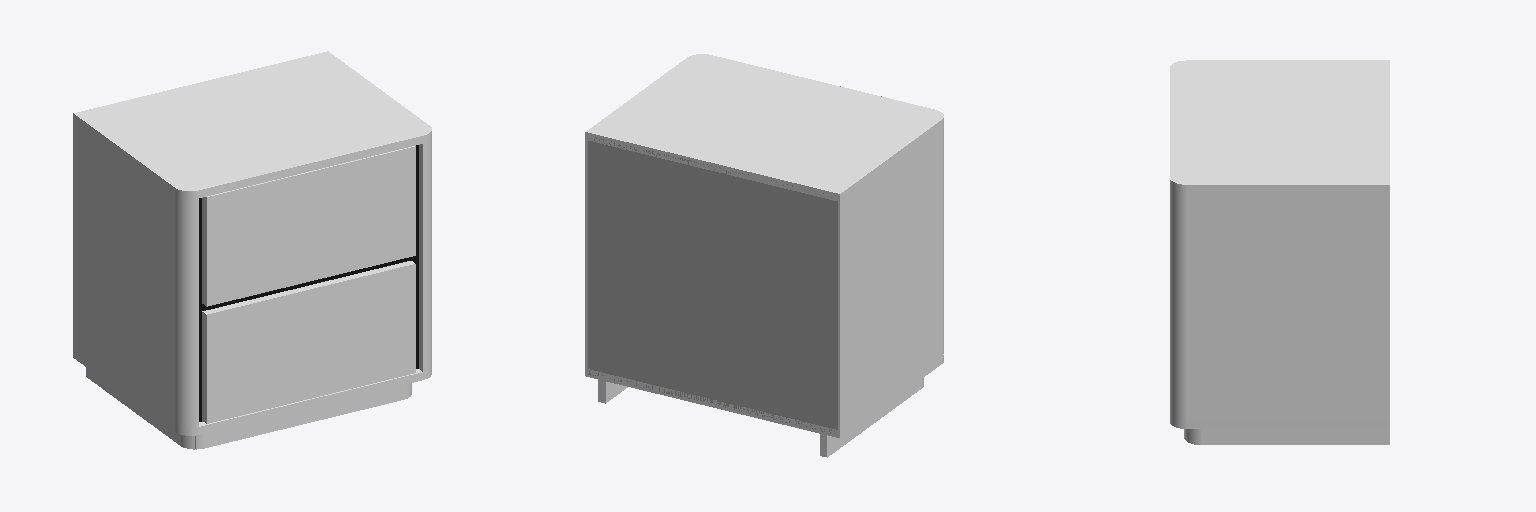
3 renders of one model, left to right at view 1: azimuth 30°, elevation 25°; view 2: azimuth 150°, elevation 25°; view 3: azimuth 270°, elevation 25°, orthographic.
Visible parts, largest first — view 1: 5_Крышка тумбы, 2_Бок тумбы, 27_Фасад, 39_Фасад, 6_Дно тумбы, 11_Цокль, 3_Бок тумбы 20мм, 1_Бок тумбы 20мм, 8_Бок цоколя, 14_Цайга межфасадная, 13_Внутренний бок тумбы, 12_Внутренний бок тумбы; view 2: 15_ДВП, 5_Крышка тумбы, 2_Бок тумбы, 6_Дно тумбы, 8_Бок цоколя, 4_Бок тумбы; view 3: 4_Бок тумбы, 5_Крышка тумбы, 10_Бок цоколя, 6_Дно тумбы.
Part boxes in pixels (x1,y1,x2,y2): 5_Крышка тумбы: (73,51,431,198); 2_Бок тумбы: (73,121,189,427); 27_Фасад: (202,261,415,423); 39_Фасад: (202,146,415,306); 6_Дно тумбы: (73,350,431,435); 11_Цокль: (204,385,402,448); 3_Бок тумбы 20мм: (419,141,429,371); 1_Бок тумбы 20мм: (190,199,198,427); 8_Бок цоколя: (86,367,194,449); 14_Цайга межфасадная: (202,257,410,310); 13_Внутренний бок тумбы: (411,145,418,368); 12_Внутренний бок тумбы: (199,198,201,421); 15_ДВП: (588,137,837,433); 5_Крышка тумбы: (585,54,943,201); 2_Бок тумбы: (838,126,943,429); 6_Дно тумбы: (585,354,943,437); 8_Бок цоколя: (820,378,923,457); 4_Бок тумбы: (585,140,587,368); 4_Бок тумбы: (1172,189,1389,420); 5_Крышка тумбы: (1170,60,1389,192); 10_Бок цоколя: (1187,429,1389,444); 6_Дно тумбы: (1170,416,1389,428).
Size of the model in its own units: 0.6 by 0.6 by 0.4502.
5 materials, 5 textured.